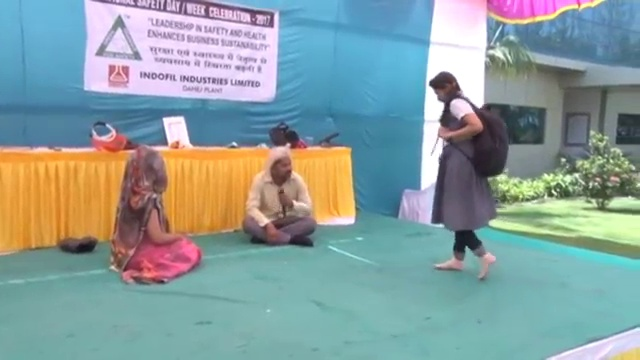helmet_off: (124, 148, 168, 192), (429, 71, 458, 104), (267, 145, 293, 181)
person: (427, 71, 511, 282), (108, 146, 203, 285), (242, 146, 318, 247)
